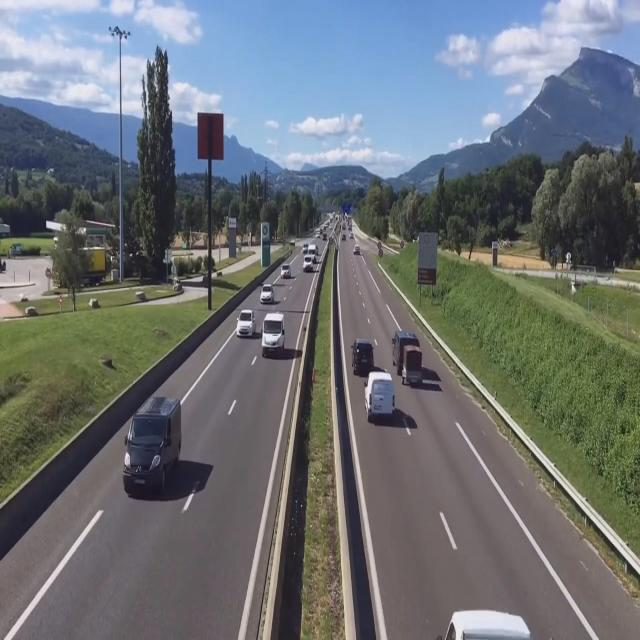car: (121, 396, 182, 498), (364, 372, 398, 430), (262, 314, 286, 360), (394, 331, 421, 371), (351, 338, 373, 374), (236, 309, 258, 340), (261, 284, 277, 306)
truck: (431, 609, 553, 640)
